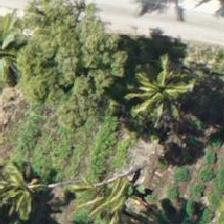coconut_tree: (117, 40, 207, 130), (73, 154, 163, 223), (0, 9, 46, 99)
